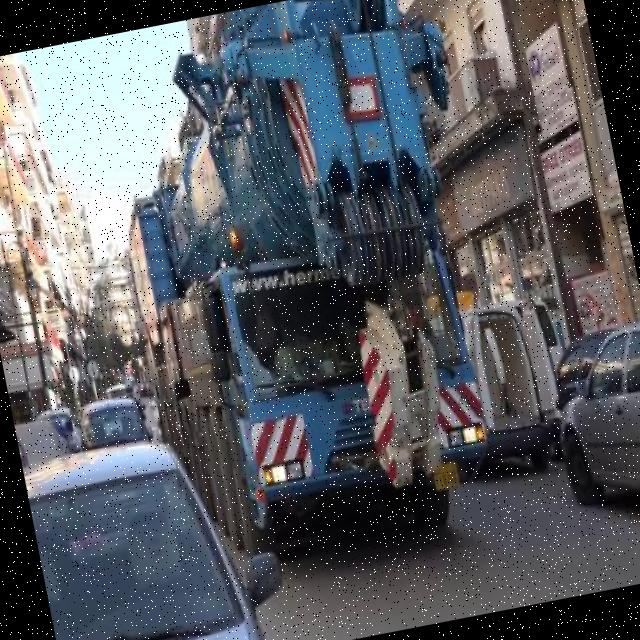Mobile Crane: (90, 0, 534, 583)
